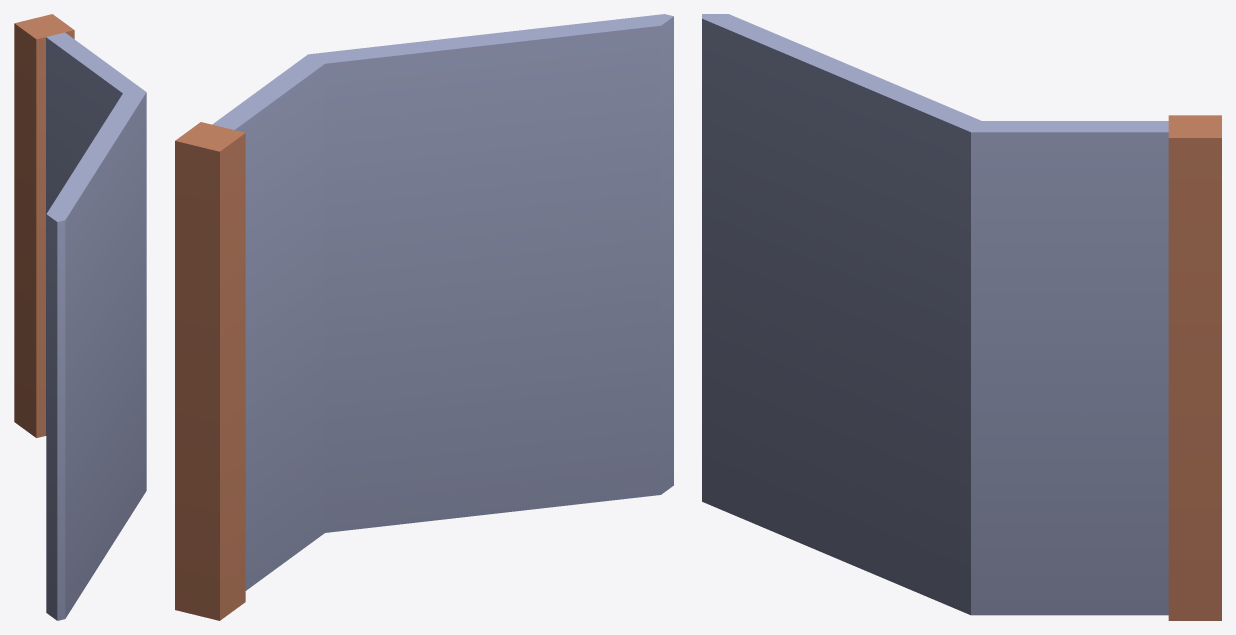
File: wall-corner-diagonal-half.glb
3 views of the same model, side by side, from view 1: azimuth 30°, elevation 25°; view 2: azimuth 150°, elevation 25°; view 3: azimuth 270°, elevation 25° (orthographic). The views are drawn at different scales.
Visible parts, largest first — view 1: wall-corner-diagonal-half; view 2: wall-corner-diagonal-half; view 3: wall-corner-diagonal-half.
Boxes of the visible parts, <box> form: wall-corner-diagonal-half: <box>14,14,146,620</box>; wall-corner-diagonal-half: <box>175,14,673,620</box>; wall-corner-diagonal-half: <box>702,14,1221,620</box>.
Bounding box in the file's own units: 0.55 × 1 × 0.975.
1 material, 1 textured.
